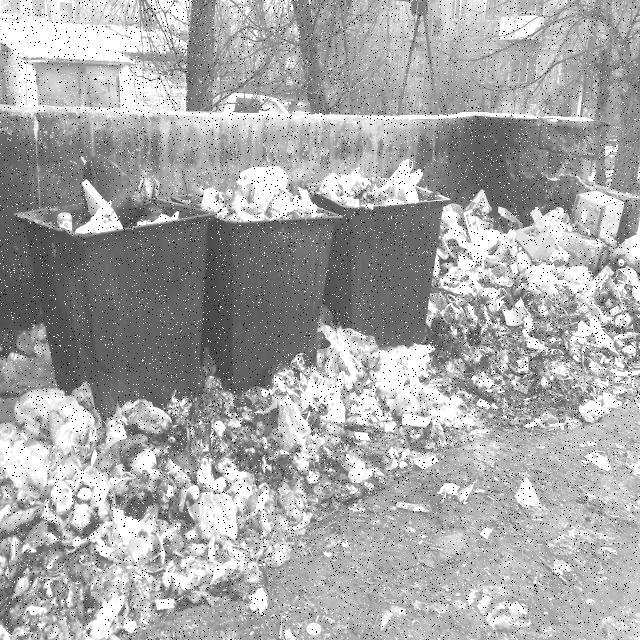Trashcan: (4, 160, 220, 430), (190, 155, 342, 398), (328, 151, 459, 395)
